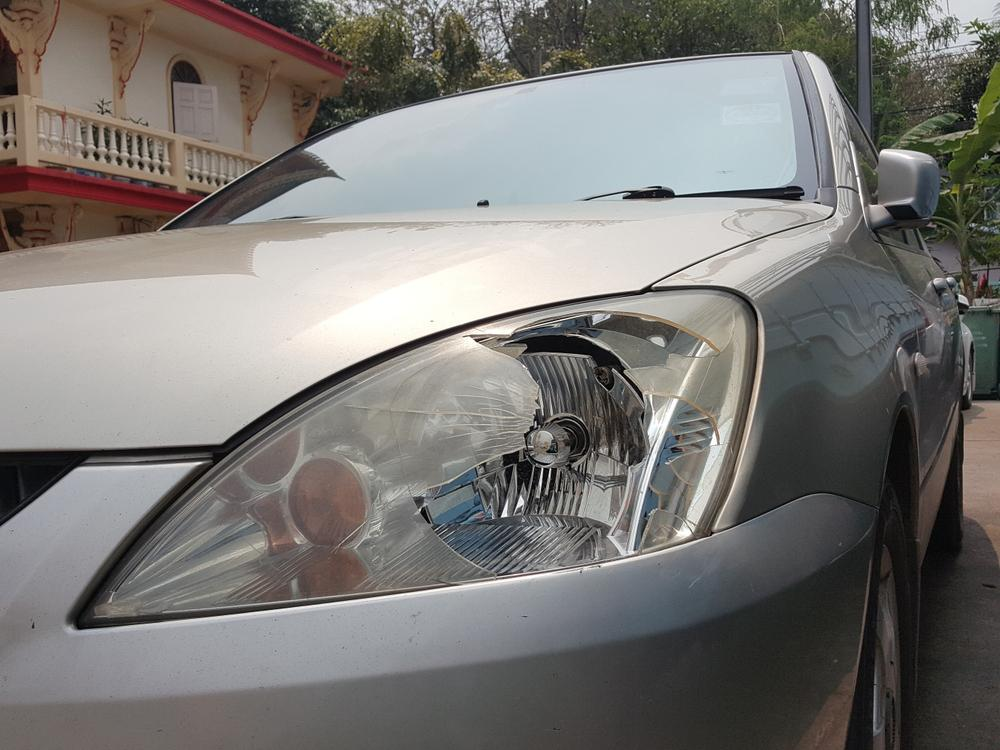lamp broken: (79, 289, 756, 628)
